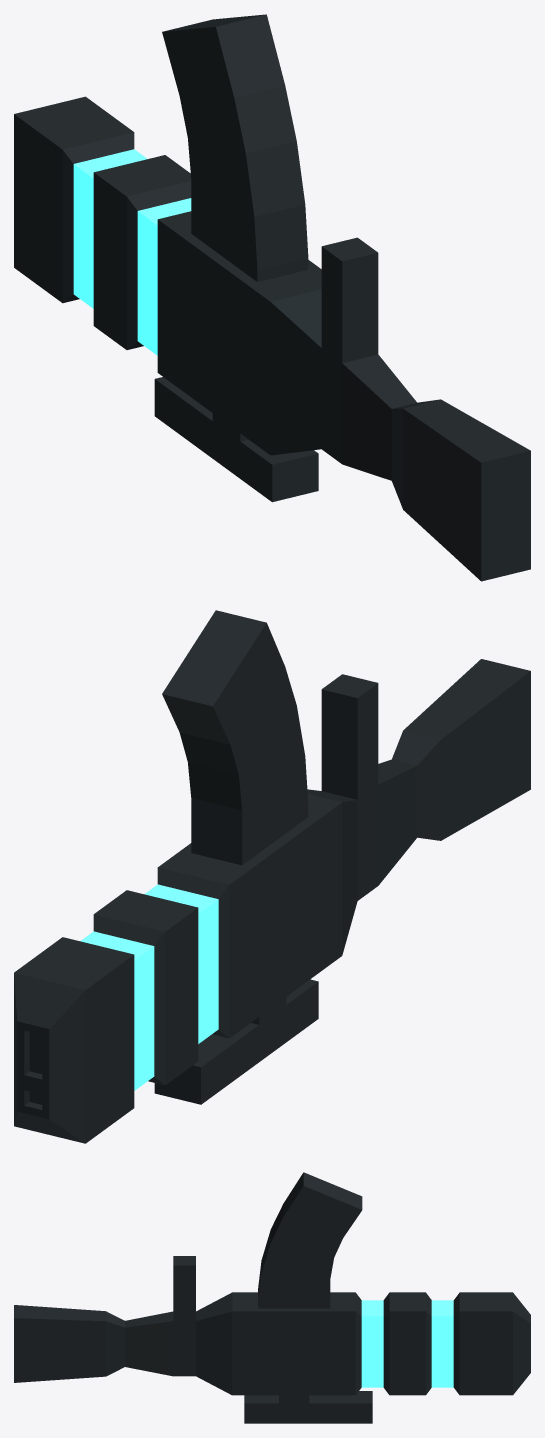
The model's file is weapon.fbx.
3 views of the same model, one above another, from view 1: azimuth 30°, elevation 25°; view 2: azimuth 150°, elevation 25°; view 3: azimuth 270°, elevation 25° (orthographic). The views are drawn at different scales.
Parts seen in each view (by area): view 1: weapon; view 2: weapon; view 3: weapon.
Part boxes in pixels (bbox=[...]): weapon: bbox=[14, 14, 530, 581]; weapon: bbox=[14, 610, 530, 1143]; weapon: bbox=[14, 1172, 530, 1423].
Size of the model in its own units: 0.0974 by 1.11 by 0.5673.
